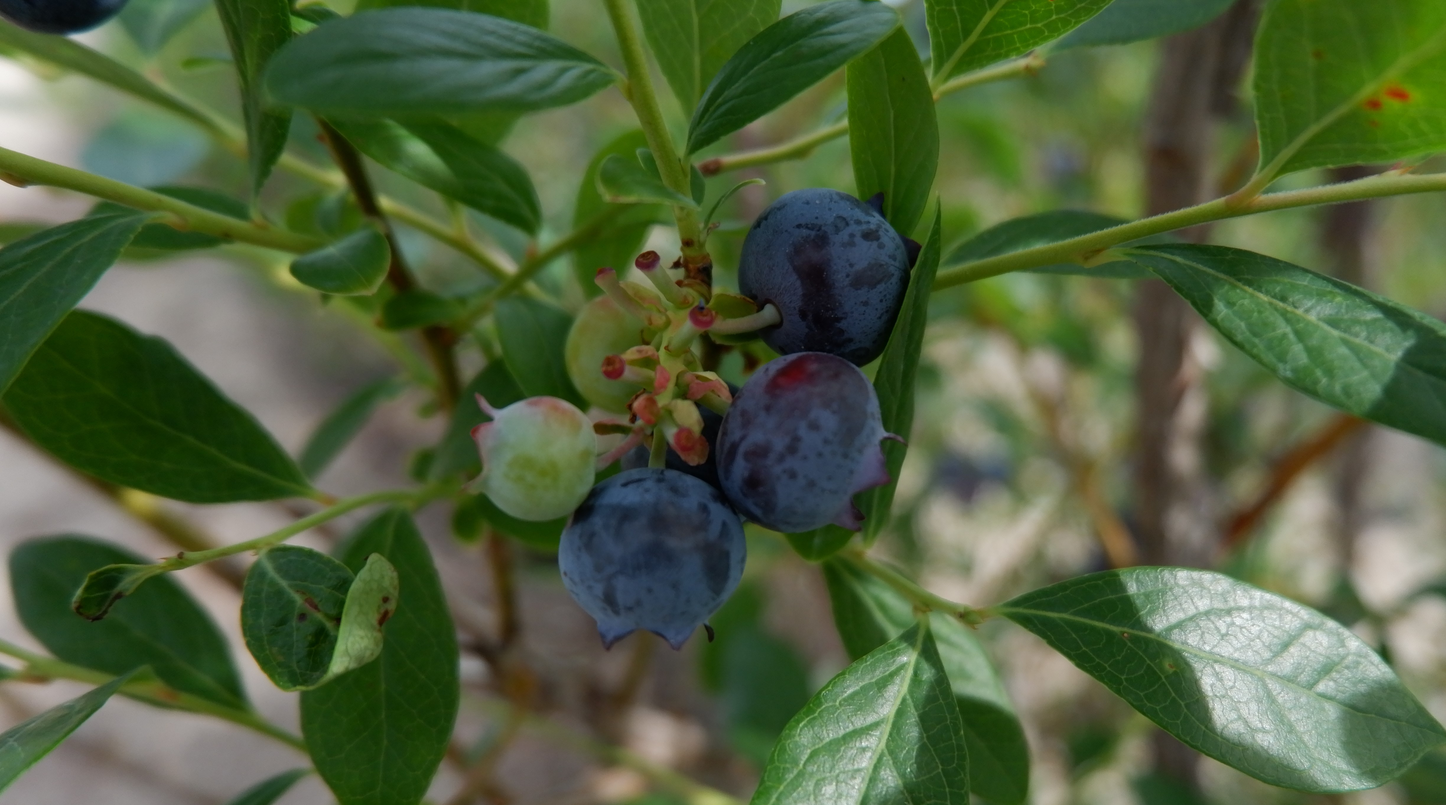Immature: (471, 399, 593, 517), (567, 282, 668, 409)
Mature: (558, 472, 743, 644), (742, 192, 913, 358), (722, 357, 882, 530)
